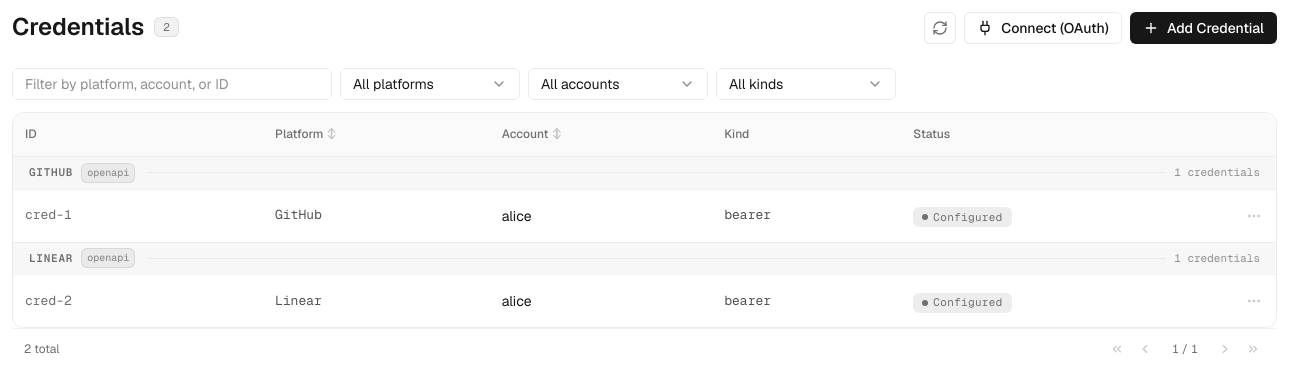
Test: CredentialsPage › search with no match shows empty-search message (no 'yet' copy)
In the search field named "search": (172,84) [12,68,332,100], type "xyznonexistent"
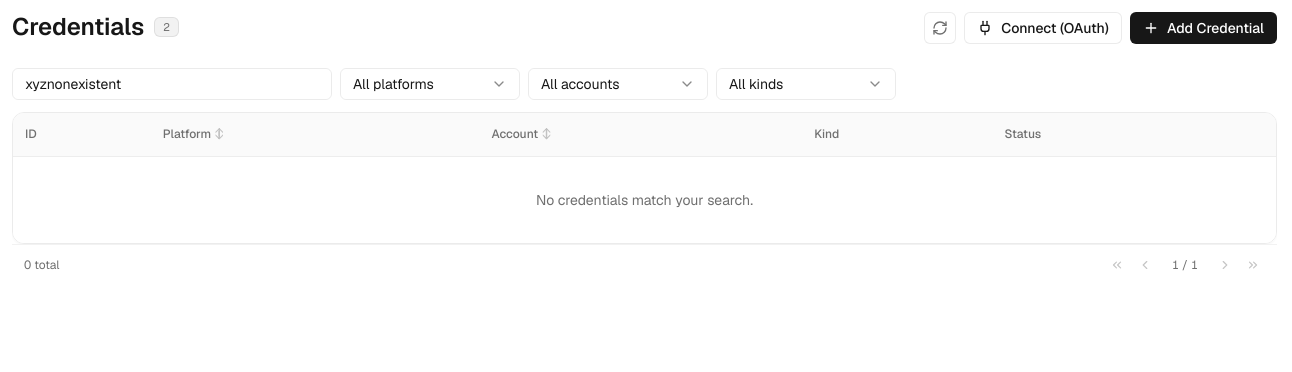
Result: the text "No credentials match your search." is shown at [536,189,753,211]
